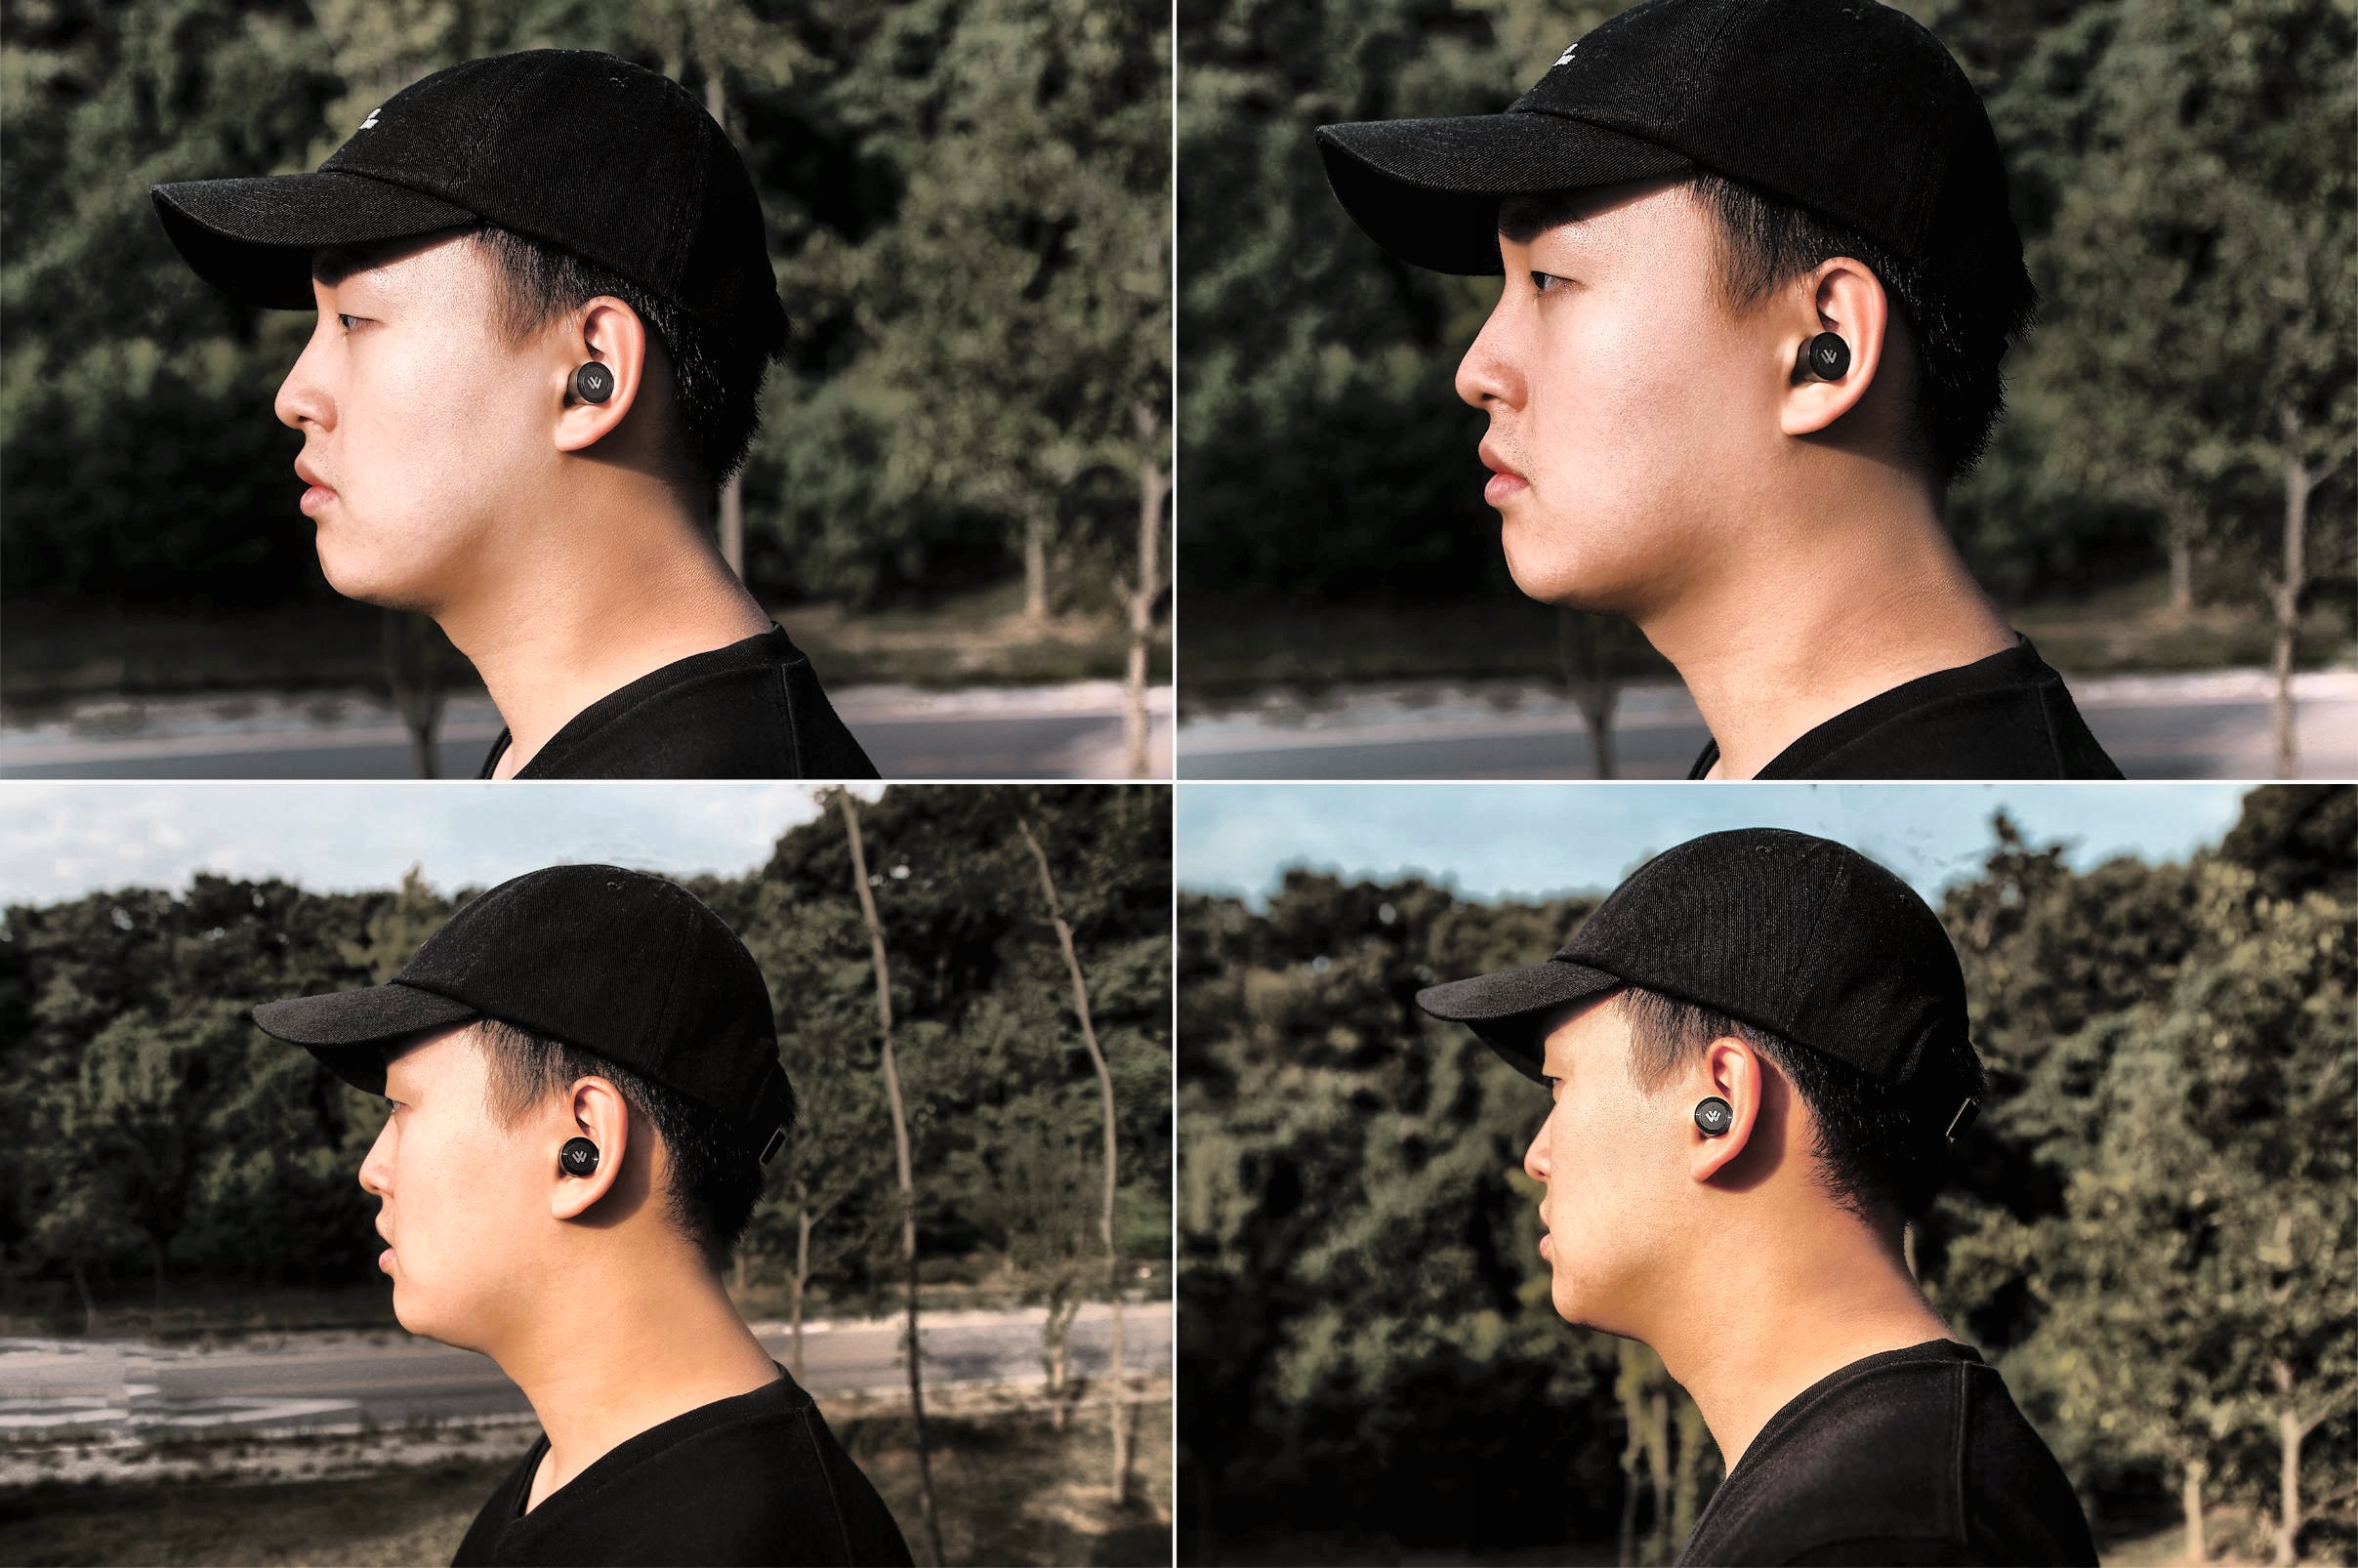earphone: (1781, 257, 1884, 436), (555, 296, 642, 458), (1688, 1036, 1760, 1185), (551, 1076, 628, 1213)
